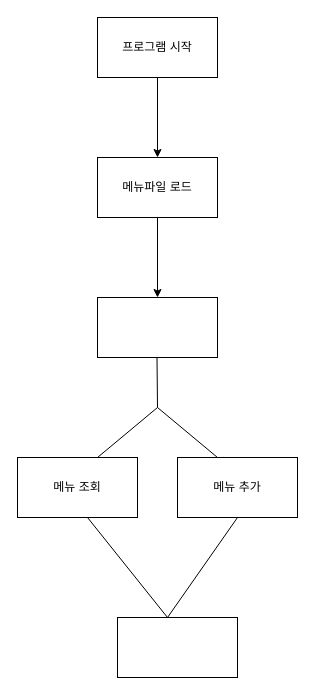
Image size: 315x695. Some labels were removed from this diagram. The shapes that lost their labels are listed below. From the top down, each one's centre as x and y in pixels, then its label:
At point (157, 327): "GUI화면 표시".
At point (177, 647): "프로그램 종료 및 파일저장".
